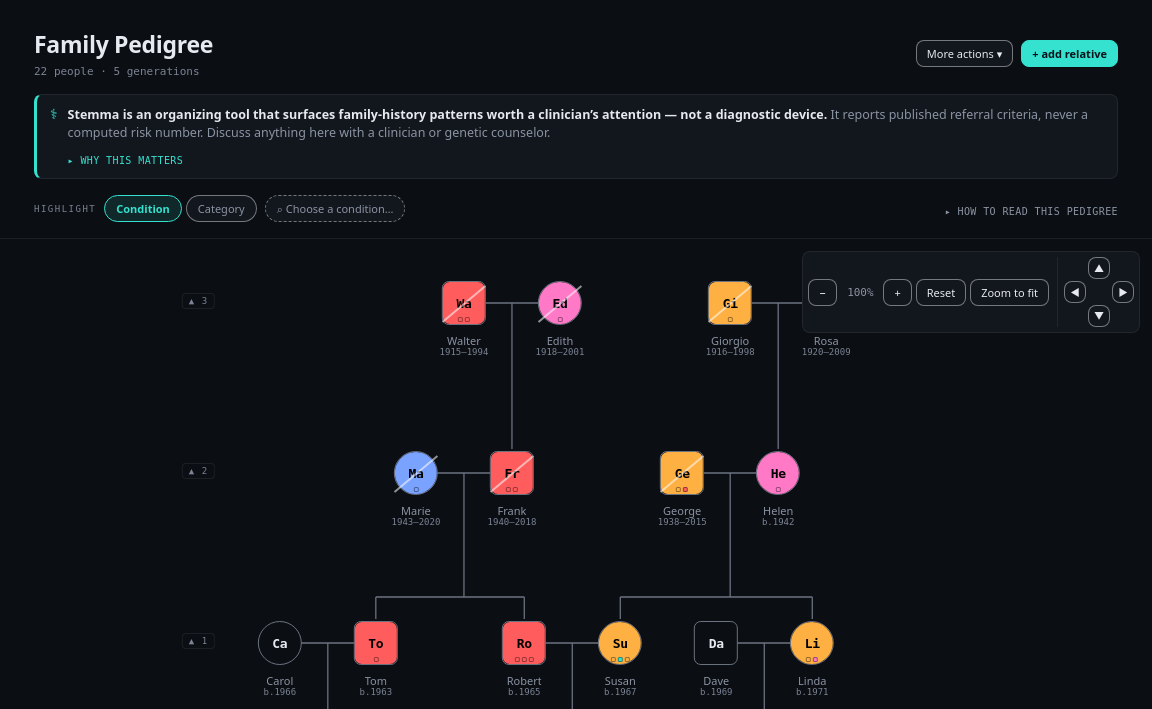
Scenario: PedigreeView › switches to Category mode and highlights by category
This screenshot has width=1152, height=709.
Click the button "Category" at (221, 209), box [186, 195, 257, 222]
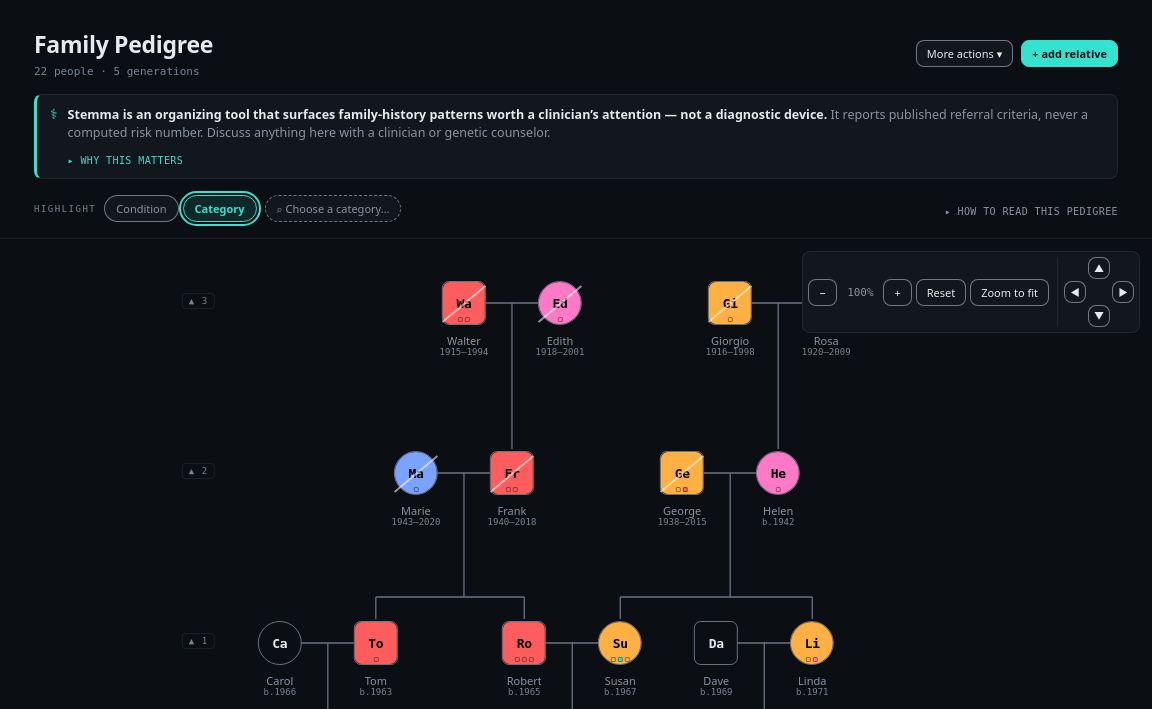
Check: the button "Category" is pressed, box [183, 195, 257, 222]
Click the button "⌕ Choose a category…" at (333, 209), box [264, 195, 401, 222]
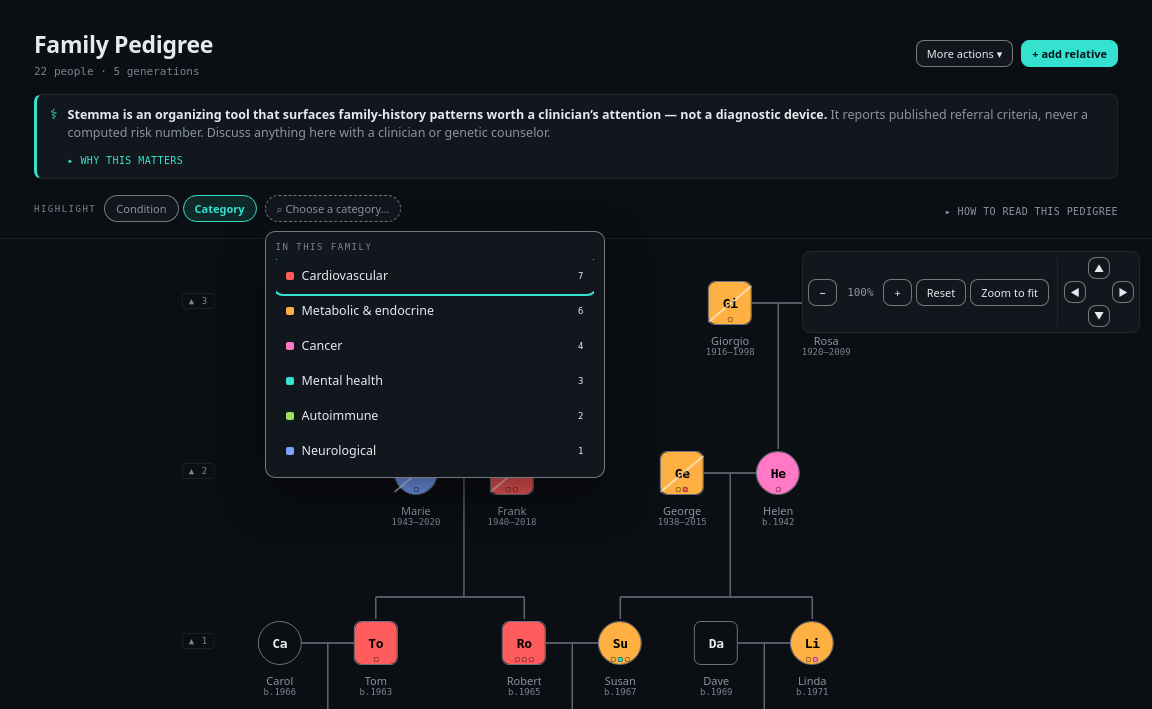
Click the button "Cardiovascular 7" at (345, 276), box [276, 259, 594, 292]
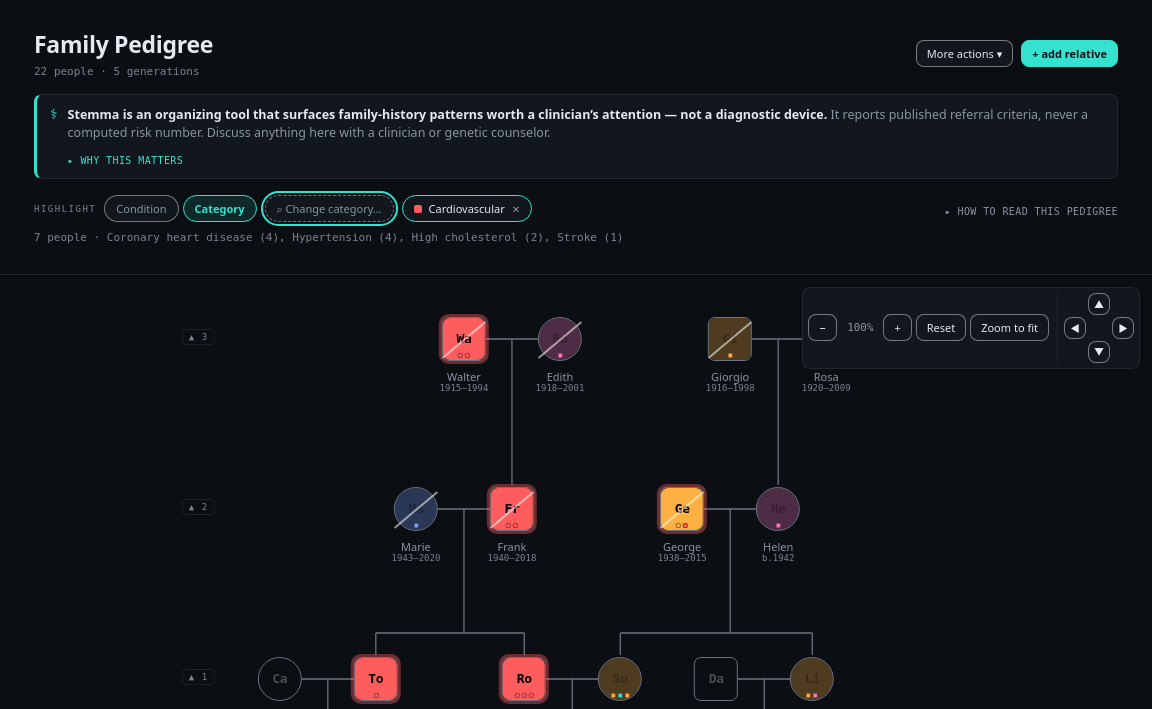
Check: the button with aria-label "clear highlight: cardiovascular" is shown, box [402, 195, 532, 222]
